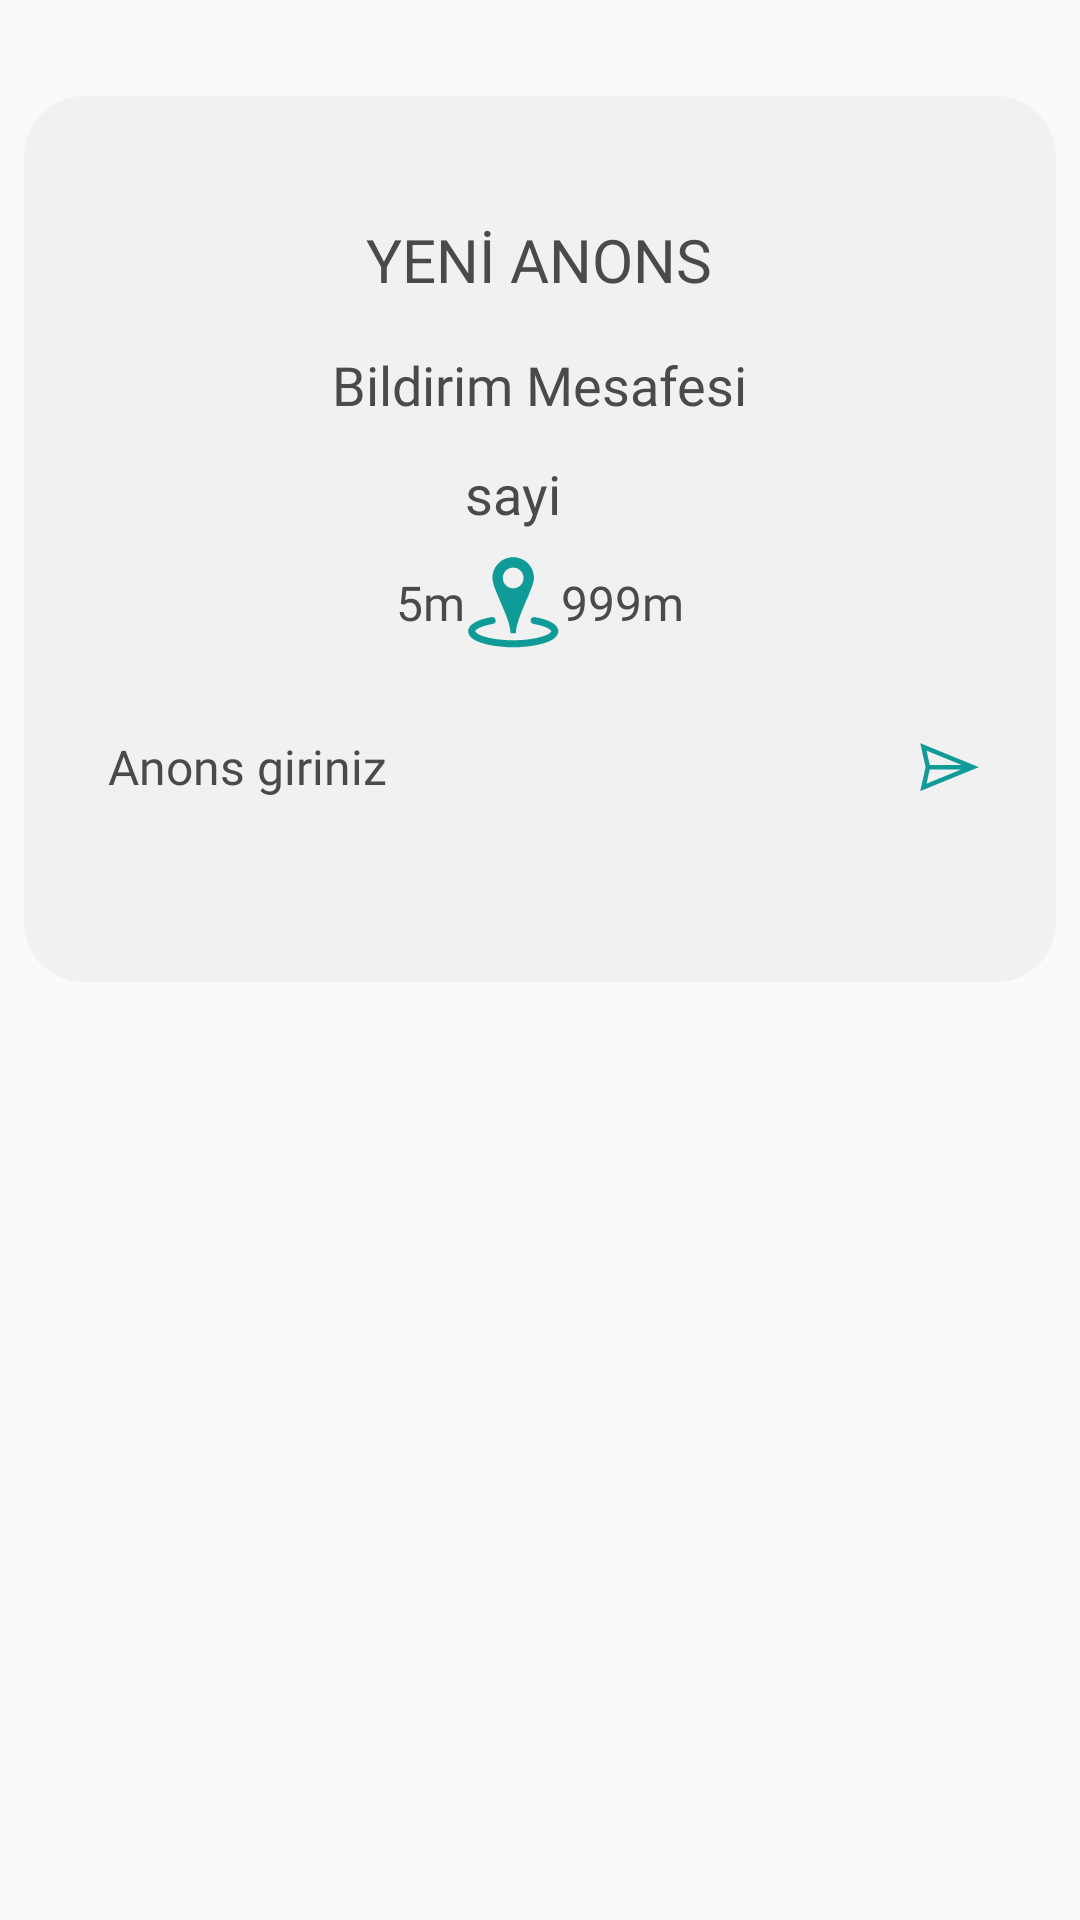

Icon bounding boxes for this 1080px×1920px phone screenshot, format [left=x1, top=y1, right=x2, bottom=y2]:
sent: [left=920, top=743, right=979, bottom=791]
